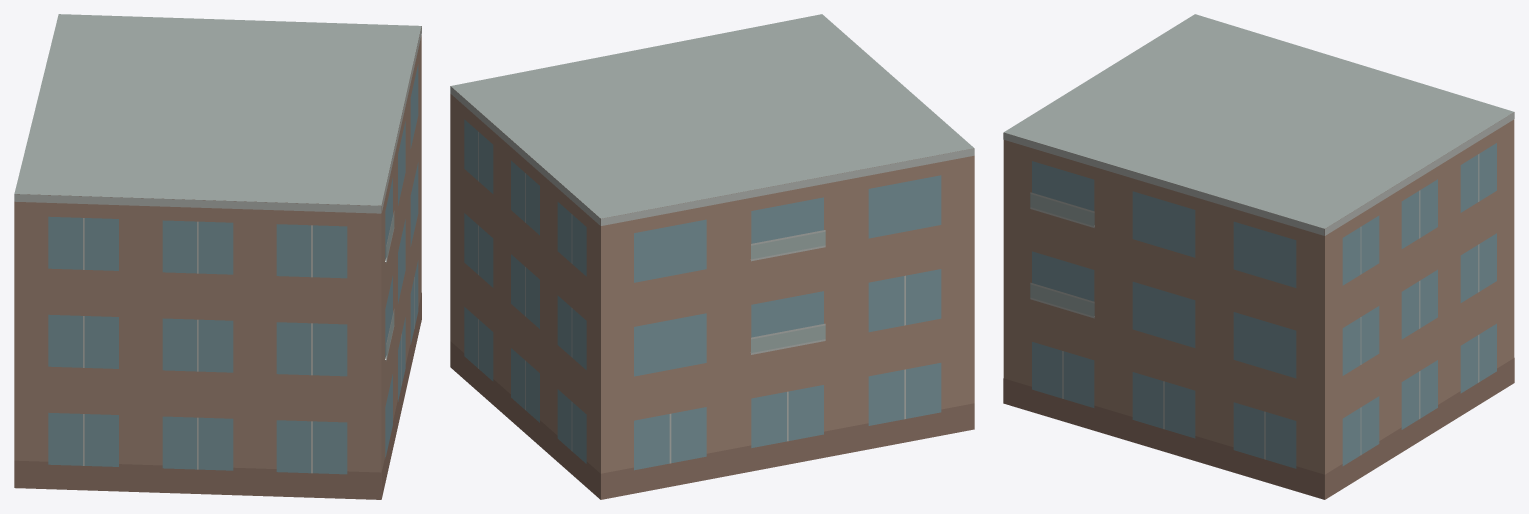
The model's file is survey-upis-32698831.glb.
The picture shows the model from 3 angles, left to right: view 1: azimuth 30°, elevation 25°; view 2: azimuth 150°, elevation 25°; view 3: azimuth 270°, elevation 25°; orthographic projection. The views are drawn at different scales.
Parts seen in each view (by area): view 1: survey-upis-32698831.tmp; view 2: survey-upis-32698831.tmp; view 3: survey-upis-32698831.tmp.
Boxes of the visible parts, x1,y1,x2,y2 form: survey-upis-32698831.tmp: [14, 14, 421, 499]; survey-upis-32698831.tmp: [450, 14, 974, 499]; survey-upis-32698831.tmp: [1003, 14, 1514, 499].
Size of the model in its own units: 15.56 by 9.15 by 15.64.
